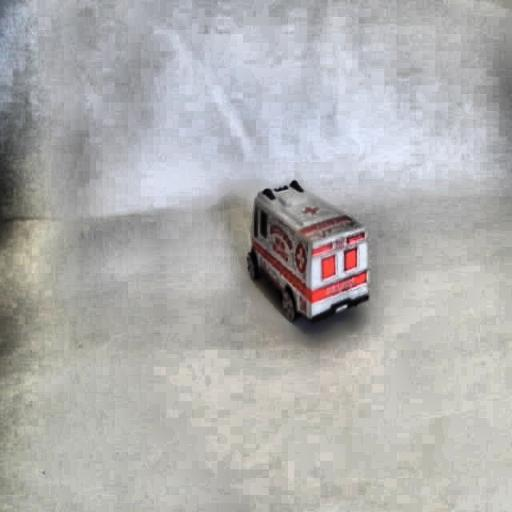ambulance: (246, 178, 370, 323)
